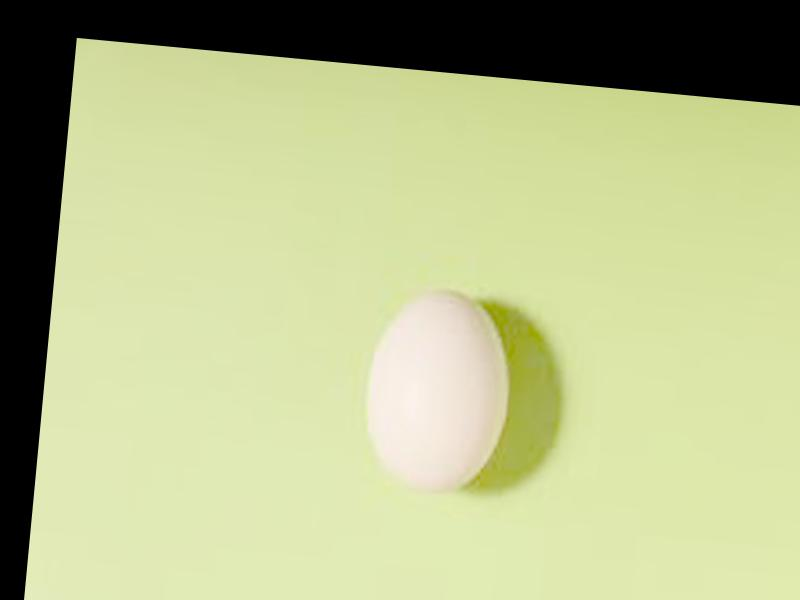Eggs: (362, 280, 517, 498)
